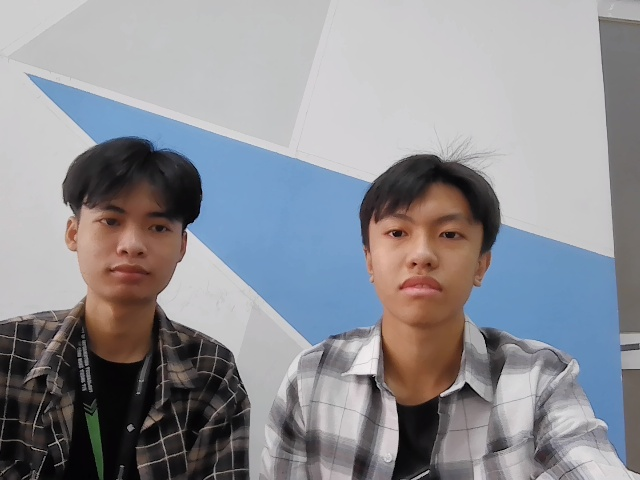human: (356, 154, 498, 319), (65, 135, 203, 301)
